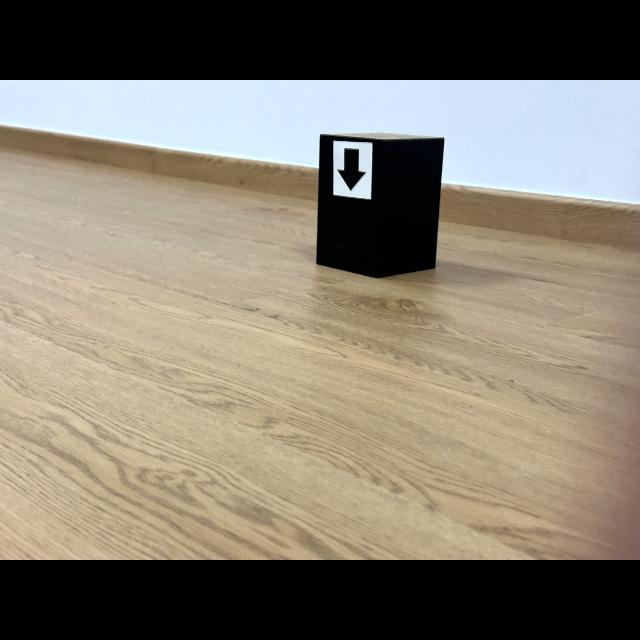DOWN: (338, 149, 365, 190)
